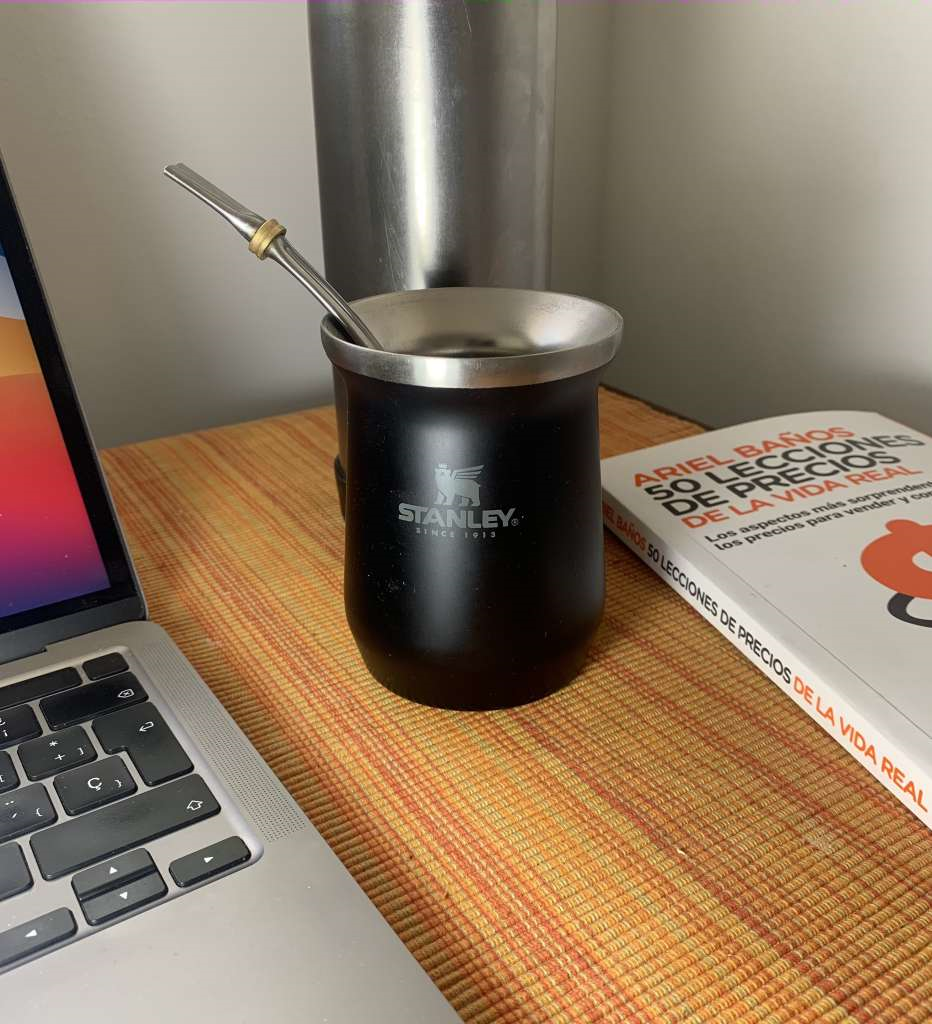mate: (315, 259, 632, 713)
metal: (313, 257, 630, 711)
